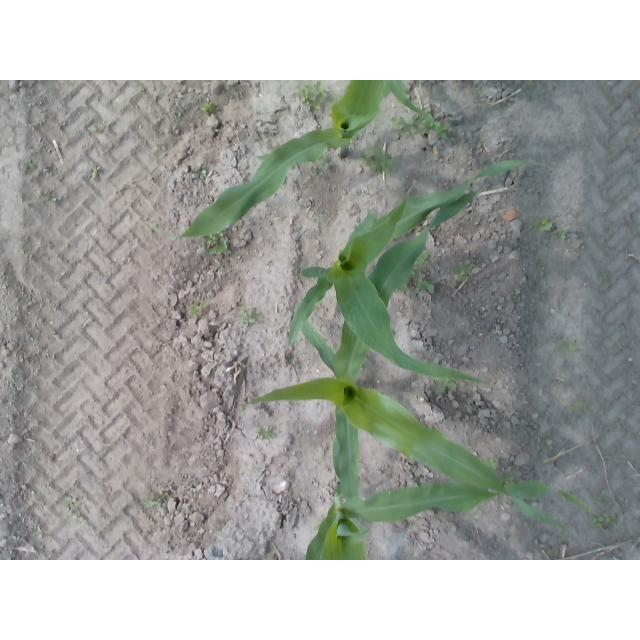Maize: (243, 188, 565, 528), (287, 159, 542, 386), (145, 80, 431, 240), (307, 437, 594, 560)
Weeds: (64, 496, 92, 522), (362, 149, 391, 169), (423, 116, 450, 137), (239, 307, 261, 325), (594, 513, 616, 531), (143, 493, 170, 507), (436, 379, 457, 394), (394, 119, 415, 133), (190, 300, 207, 317), (211, 238, 229, 254), (313, 83, 328, 98), (22, 159, 36, 174), (299, 90, 314, 103), (540, 217, 553, 232), (310, 98, 326, 110), (573, 400, 587, 413), (458, 268, 471, 282), (419, 253, 430, 269), (564, 338, 577, 351), (201, 104, 215, 116), (419, 281, 434, 292), (487, 457, 502, 468), (320, 157, 333, 169), (262, 427, 274, 439), (505, 473, 516, 484), (89, 124, 104, 132), (89, 169, 101, 178), (559, 232, 571, 241), (206, 239, 218, 246), (200, 171, 208, 180)
